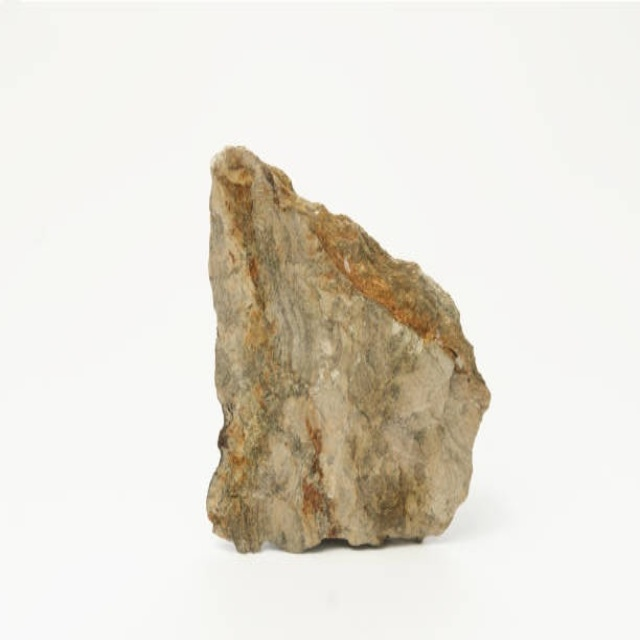obstacle: (207, 147, 488, 551)
